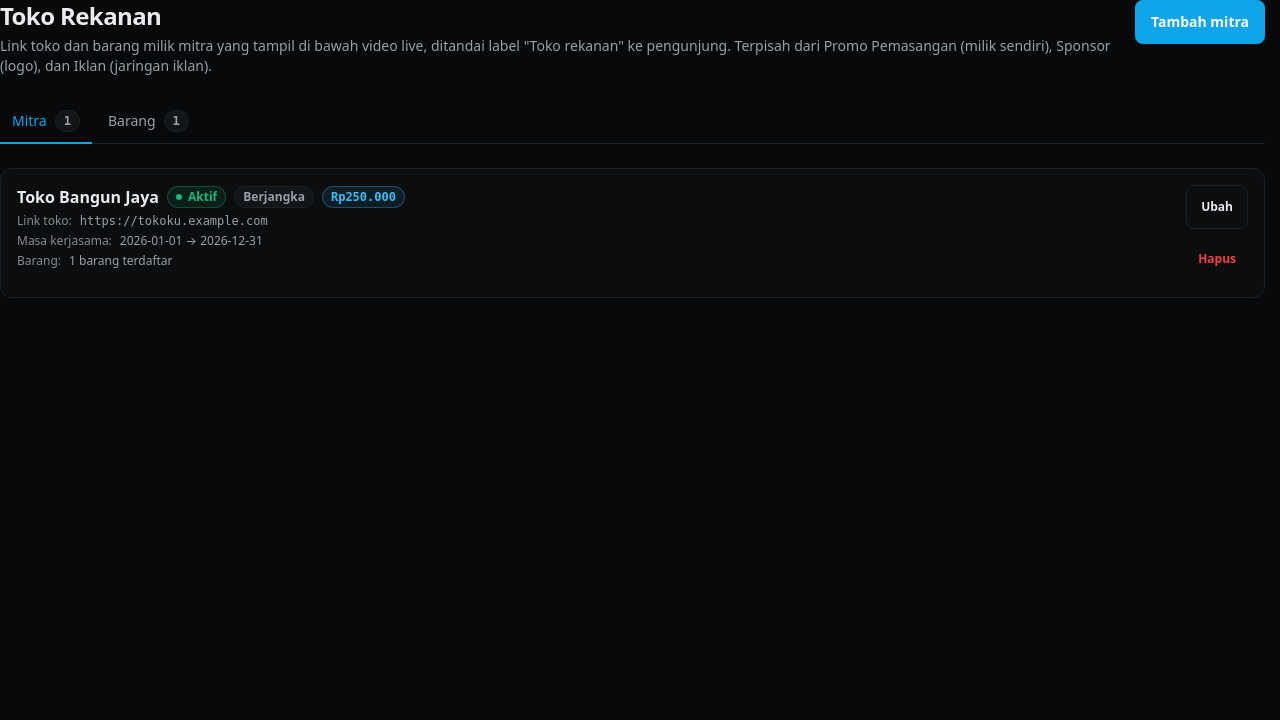
Test: menyimpan barang memberi tanda bahwa sesuatu terjadi › menutup dialog mitra dengan cara yang sama
This screenshot has width=1280, height=720.
Click the button "Ubah": (1217, 207) [1186, 185, 1248, 229]
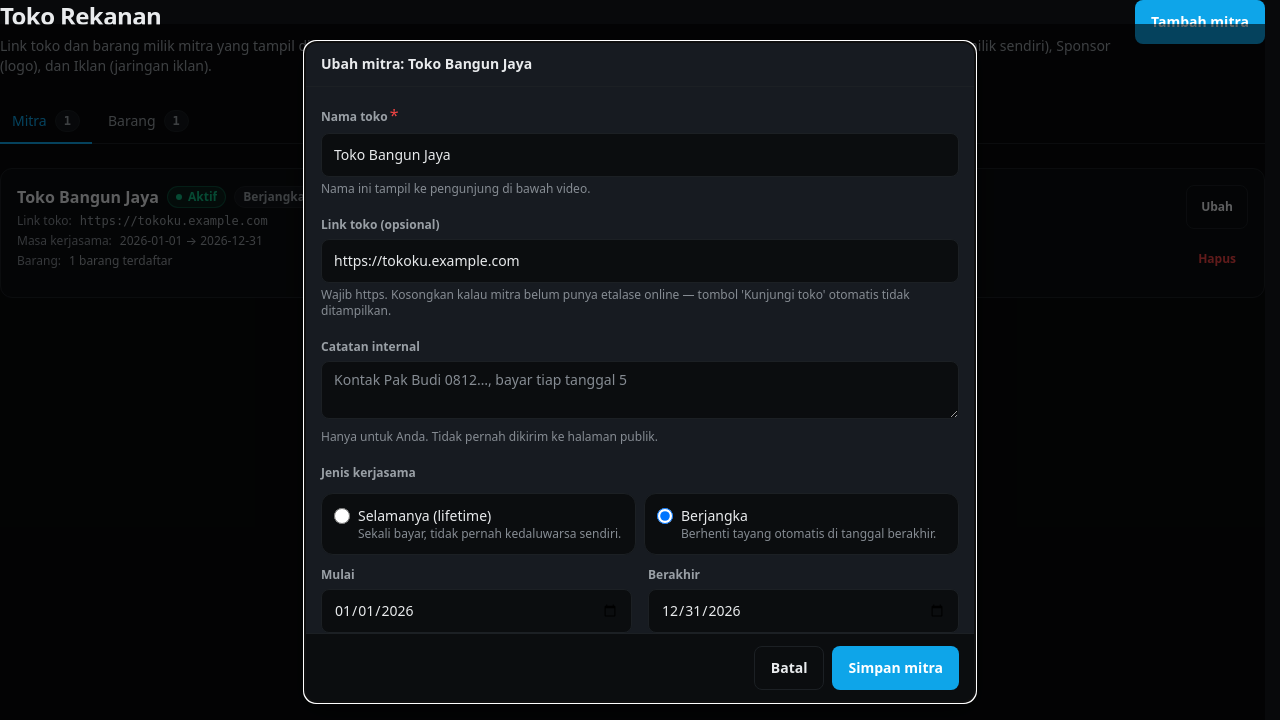
Click the button "Simpan mitra": (896, 668) [832, 646, 959, 690]
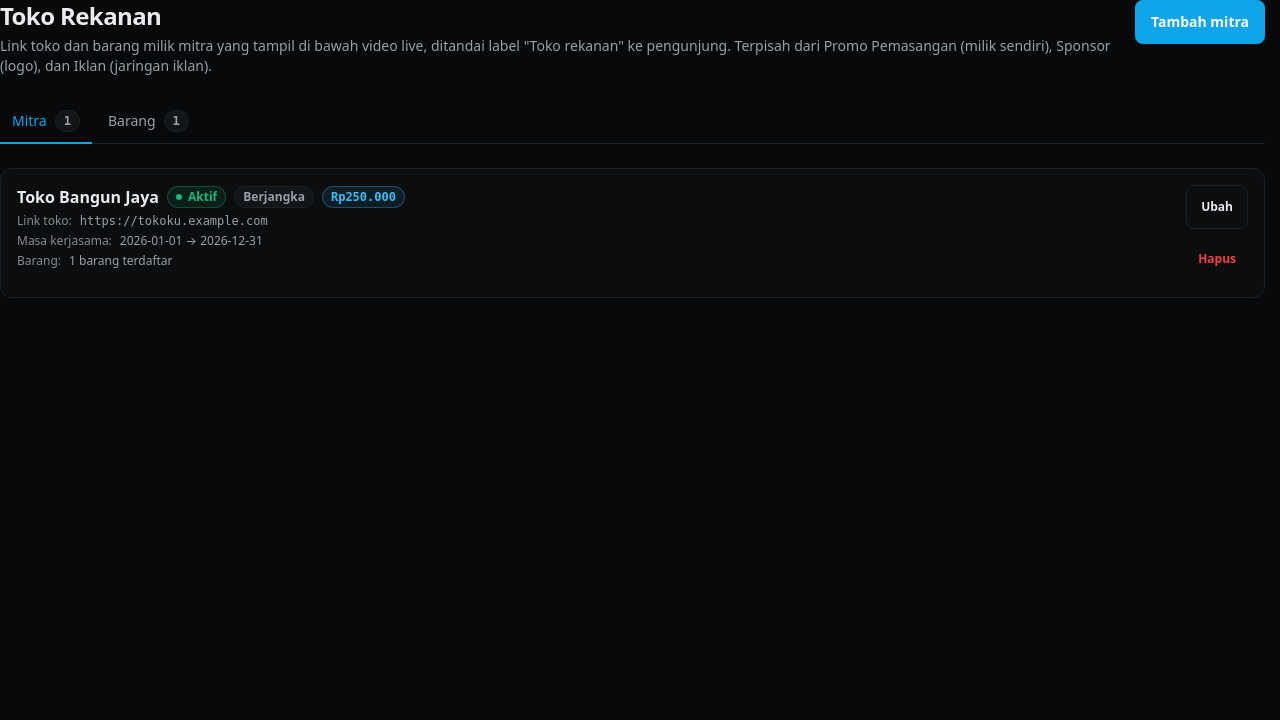
Result: the dialog is gone
